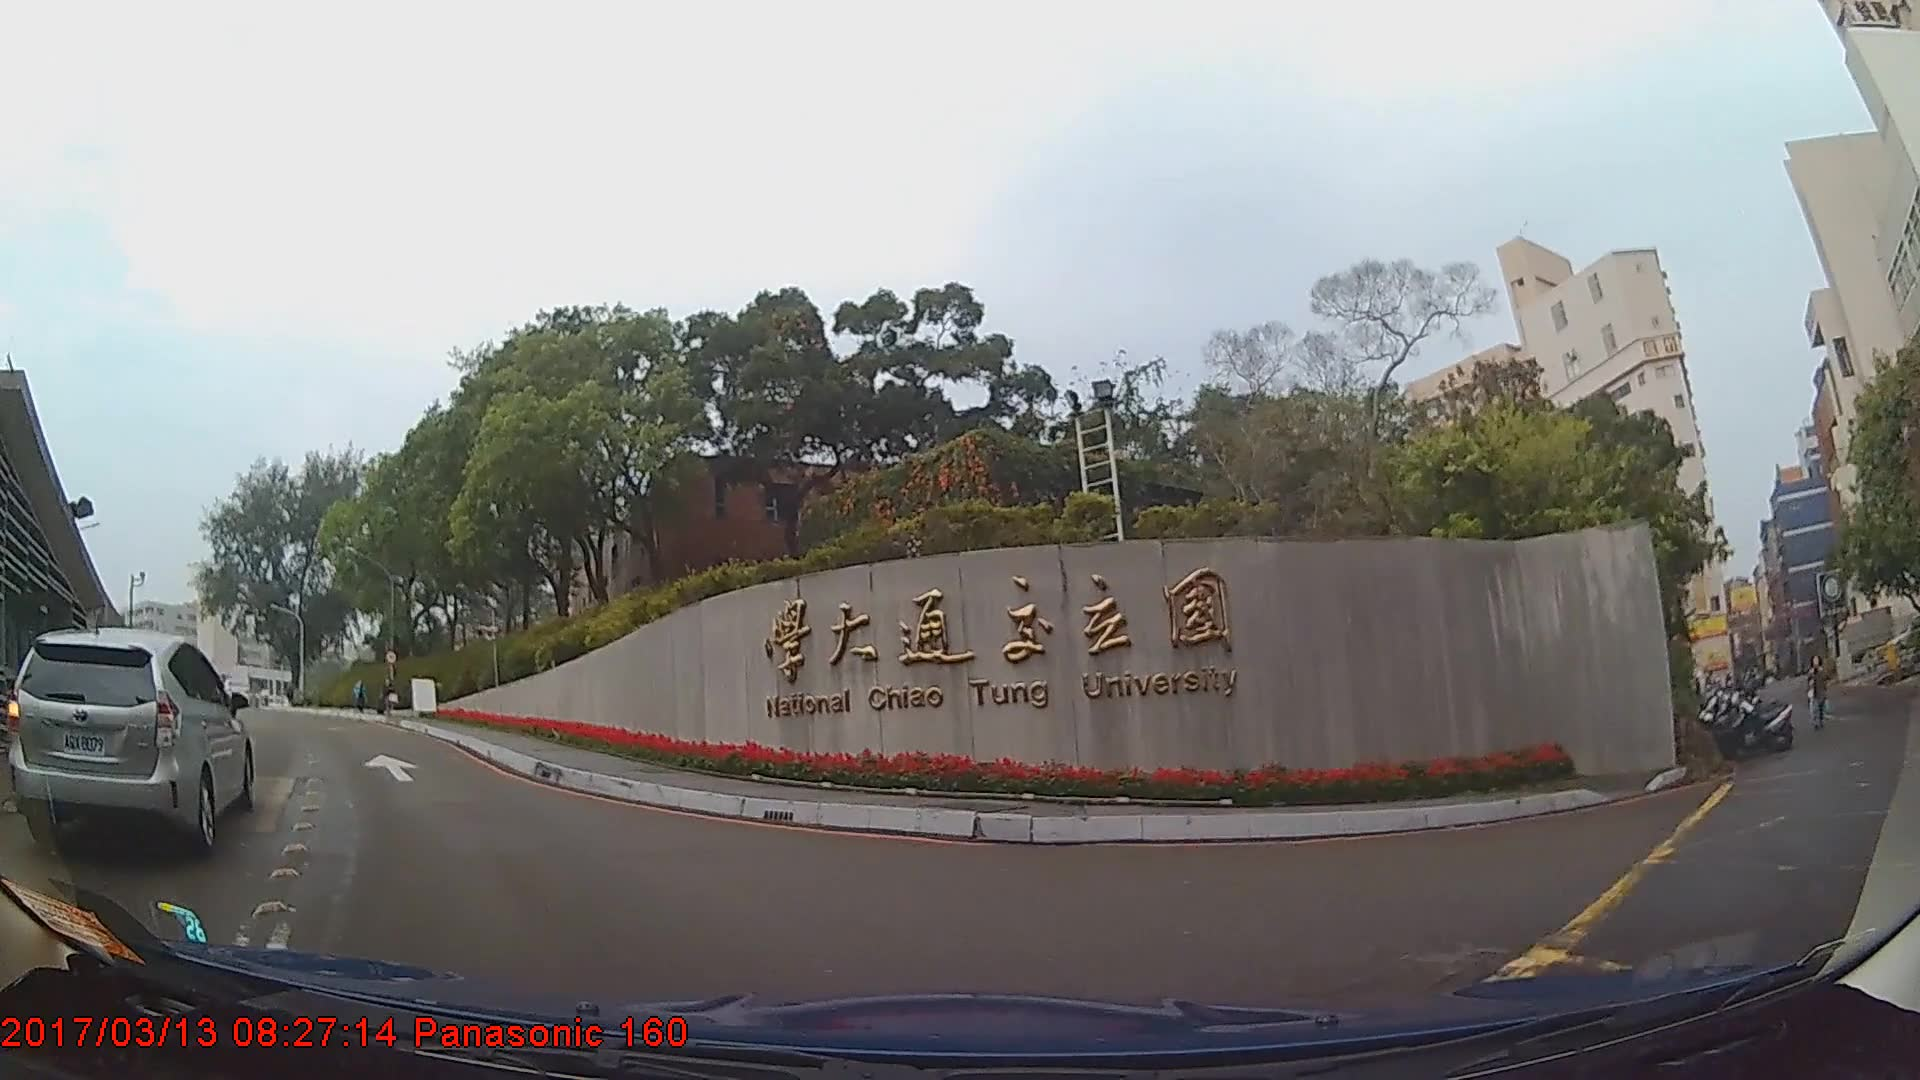pedestrian: (1808, 654, 1831, 730)
vehicle: (10, 625, 254, 855)
